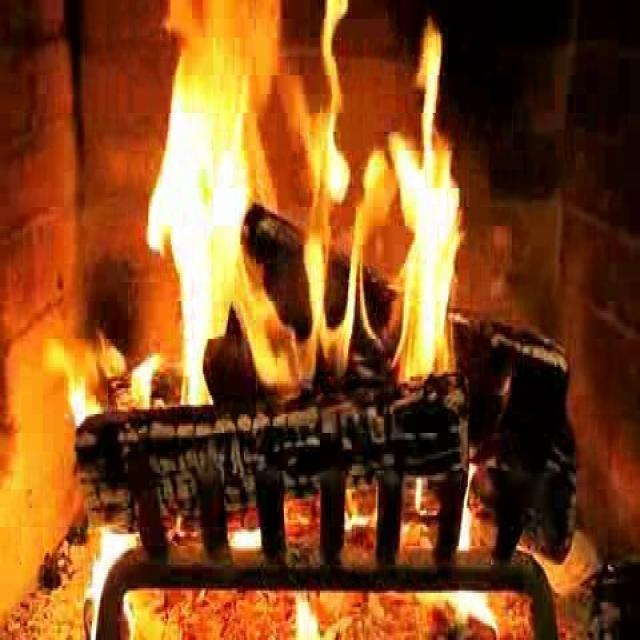Fire: (145, 6, 474, 404)
